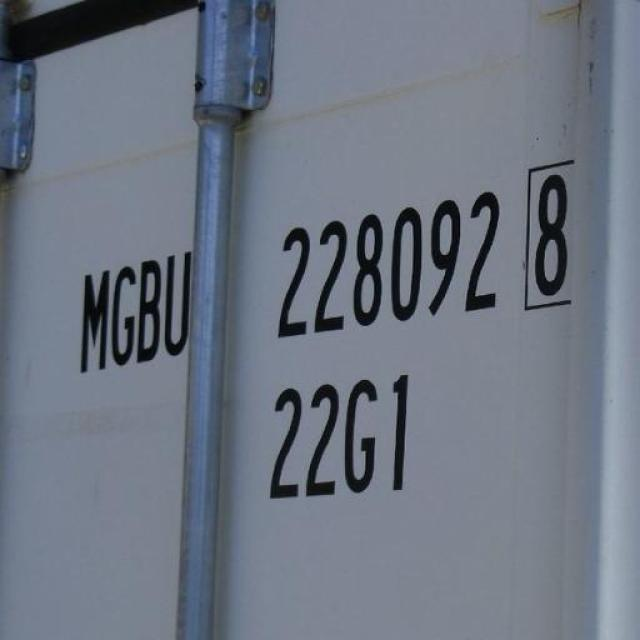ISO: (258, 378, 425, 501)
container_number: (66, 173, 580, 374)
